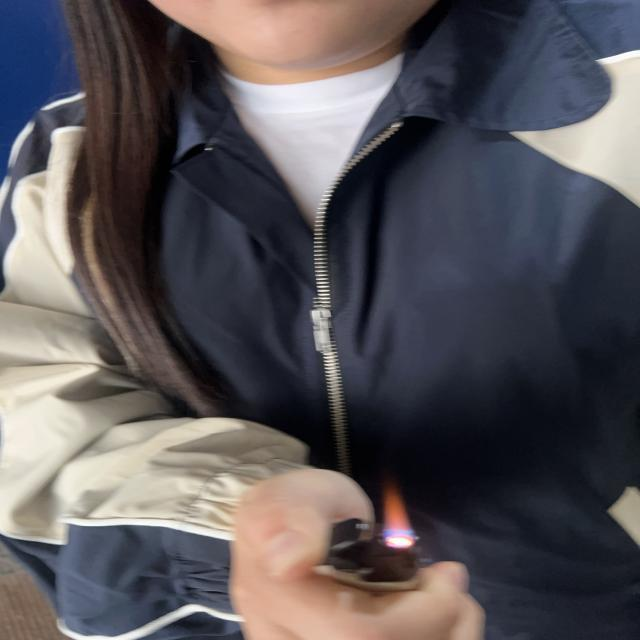fire: (380, 488, 414, 538)
